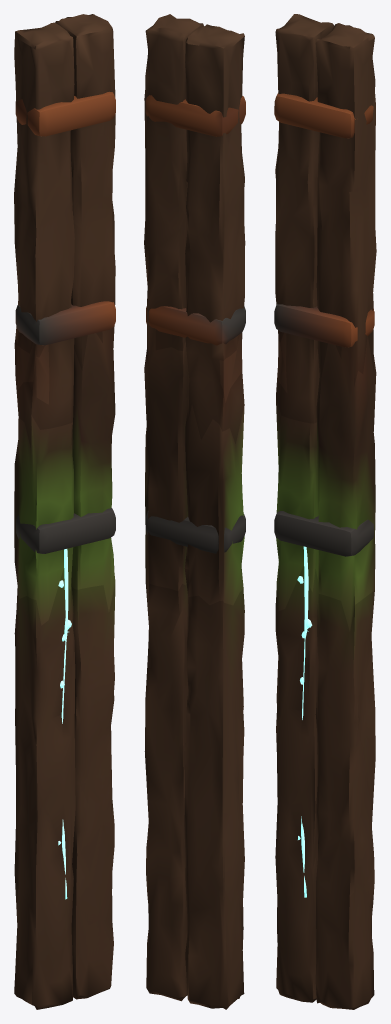
Rendered from mire_barrel_stave_c.glb.
3 renders of one model, left to right at view 1: azimuth 30°, elevation 25°; view 2: azimuth 150°, elevation 25°; view 3: azimuth 330°, elevation 25°, orthographic.
Parts seen in each view (by area): view 1: mire_barrel_stave_c; view 2: mire_barrel_stave_c; view 3: mire_barrel_stave_c.
Part boxes in pixels (bbox=[...]): mire_barrel_stave_c: bbox=[14, 14, 115, 1009]; mire_barrel_stave_c: bbox=[144, 14, 245, 1009]; mire_barrel_stave_c: bbox=[274, 14, 376, 1009].
Size of the model in its own units: 6.79 by 74.31 by 3.71.
